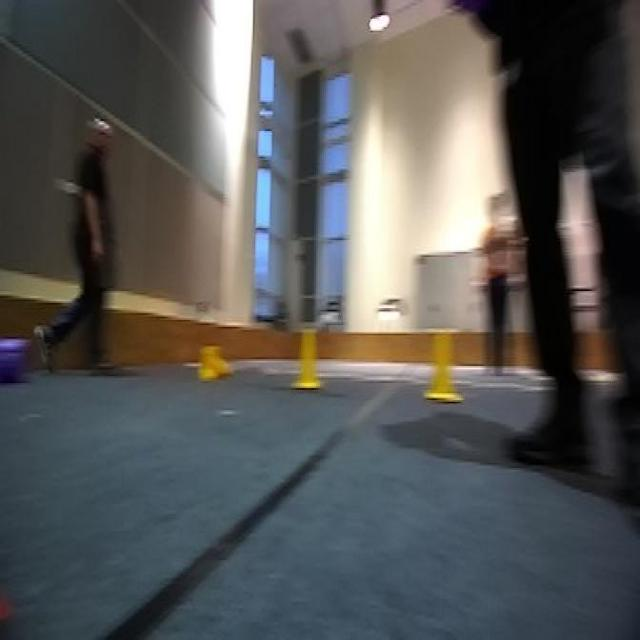frc_cone: (419, 327, 467, 402), (290, 327, 325, 388), (199, 344, 231, 381)
frc_cube: (0, 328, 32, 389)
